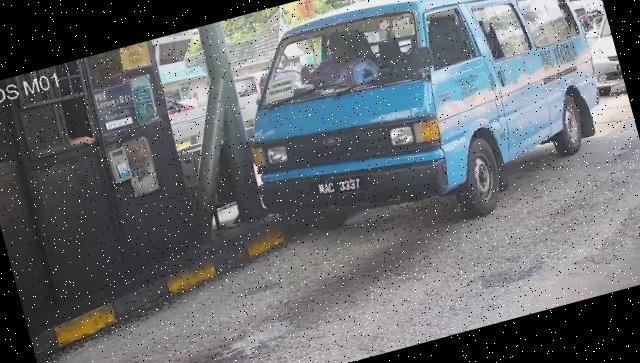License_Plate: (313, 167, 371, 205)
van: (221, 1, 626, 272)
